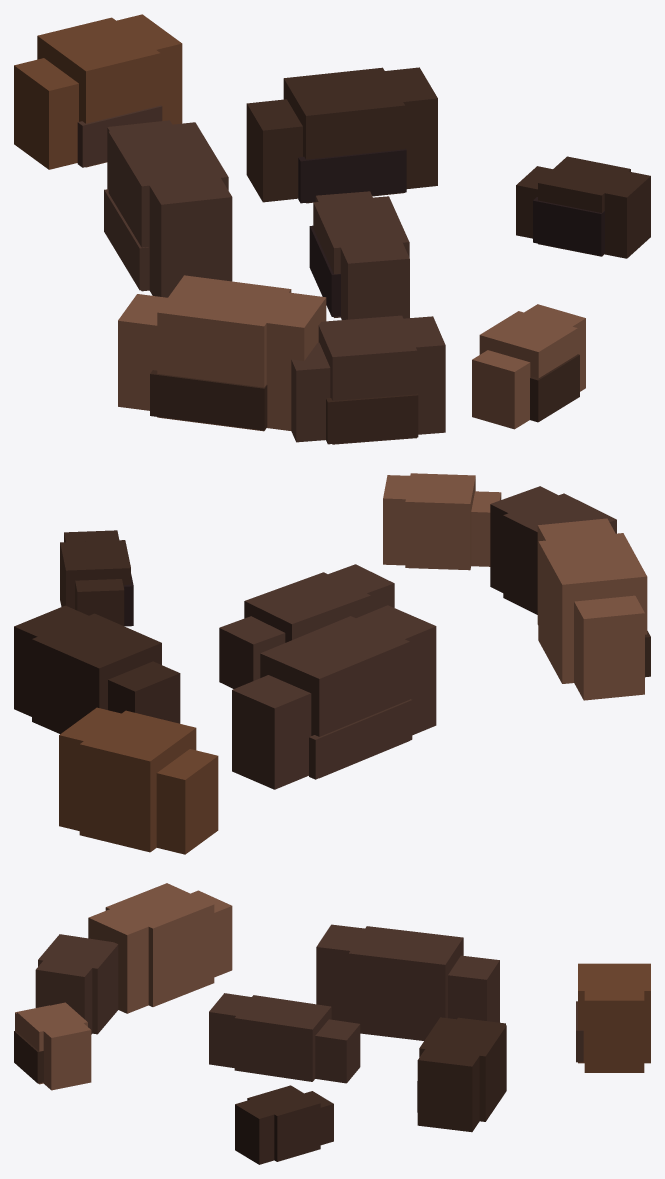
File: CMU3DDecorFloorBrickrubbleSouthEast.glb
The picture shows the model from 3 angles, top to bottom: view 1: azimuth 30°, elevation 25°; view 2: azimuth 150°, elevation 25°; view 3: azimuth 270°, elevation 25°; orthographic projection. The views are drawn at different scales.
Parts seen in each view (by area): view 1: brick 6 fractured section 2, brick 3 fractured section 2, brick 1 fractured section 2, brick 2 fractured section 3, brick 2 fractured section 2, brick 7 fractured section 2, brick 1 fractured section 1, brick 6 lower fracture face, brick 3 fractured section 1, brick 4 fractured section 3, brick 6 fractured section 3, brick 3 lower fracture face (+18 smaller); view 2: brick 2 fractured section 2, brick 1 fractured section 2, brick 3 fractured section 2, brick 6 fractured section 2, brick 2 fractured section 1, brick 6 fractured section 1, brick 8 fractured section 2, brick 1 fractured section 1, brick 4 fractured section 2, brick 7 fractured section 2, brick 2 lower fracture face, brick 2 fractured section 3 (+12 smaller); view 3: brick 2 fractured section 2, brick 6 fractured section 2, brick 4 fractured section 2, brick 1 fractured section 3, brick 3 fractured section 3, brick 3 fractured section 2, brick 6 fractured section 3, brick 7 fractured section 2, brick 5 fractured section 2, brick 2 fractured section 1, brick 2 fractured section 3, brick 1 fractured section 2 (+9 smaller).
Part boxes in pixels (x1,y1,x2,y2): brick 6 fractured section 2: [157, 275, 291, 431]; brick 3 fractured section 2: [283, 67, 405, 203]; brick 1 fractured section 2: [37, 17, 160, 167]; brick 2 fractured section 3: [149, 178, 232, 297]; brick 2 fractured section 2: [108, 122, 228, 291]; brick 7 fractured section 2: [318, 315, 417, 444]; brick 1 fractured section 1: [14, 58, 78, 169]; brick 6 lower fracture face: [150, 370, 267, 430]; brick 3 fractured section 1: [246, 99, 302, 202]; brick 4 fractured section 3: [340, 242, 409, 319]; brick 6 fractured section 3: [266, 292, 326, 430]; brick 3 lower fracture face: [298, 148, 406, 203]; brick 2 fractured section 2: [260, 616, 409, 778]; brick 1 fractured section 2: [79, 710, 196, 852]; brick 3 fractured section 2: [32, 613, 161, 733]; brick 6 fractured section 2: [538, 533, 647, 683]; brick 2 fractured section 1: [232, 675, 311, 789]; brick 6 fractured section 1: [574, 595, 644, 700]; brick 8 fractured section 2: [405, 473, 475, 570]; brick 1 fractured section 1: [156, 749, 218, 854]; brick 4 fractured section 2: [244, 572, 370, 642]; brick 7 fractured section 2: [503, 493, 616, 614]; brick 2 lower fracture face: [309, 699, 412, 779]; brick 2 fractured section 3: [356, 605, 436, 735]; brick 2 fractured section 2: [348, 926, 463, 1040]; brick 6 fractured section 2: [105, 883, 214, 1006]; brick 4 fractured section 2: [234, 995, 331, 1081]; brick 1 fractured section 3: [584, 991, 644, 1072]; brick 3 fractured section 3: [417, 1049, 479, 1132]; brick 3 fractured section 2: [419, 1017, 506, 1121]; brick 6 fractured section 3: [88, 909, 148, 1013]; brick 7 fractured section 2: [38, 934, 118, 1034]; brick 5 fractured section 2: [247, 1085, 320, 1161]; brick 2 fractured section 1: [448, 955, 499, 1022]; brick 2 fractured section 3: [316, 924, 364, 1021]; brick 1 fractured section 2: [578, 963, 650, 1063].
Bounding box in the file's own units: 0.6862 × 0.12 × 0.88.
